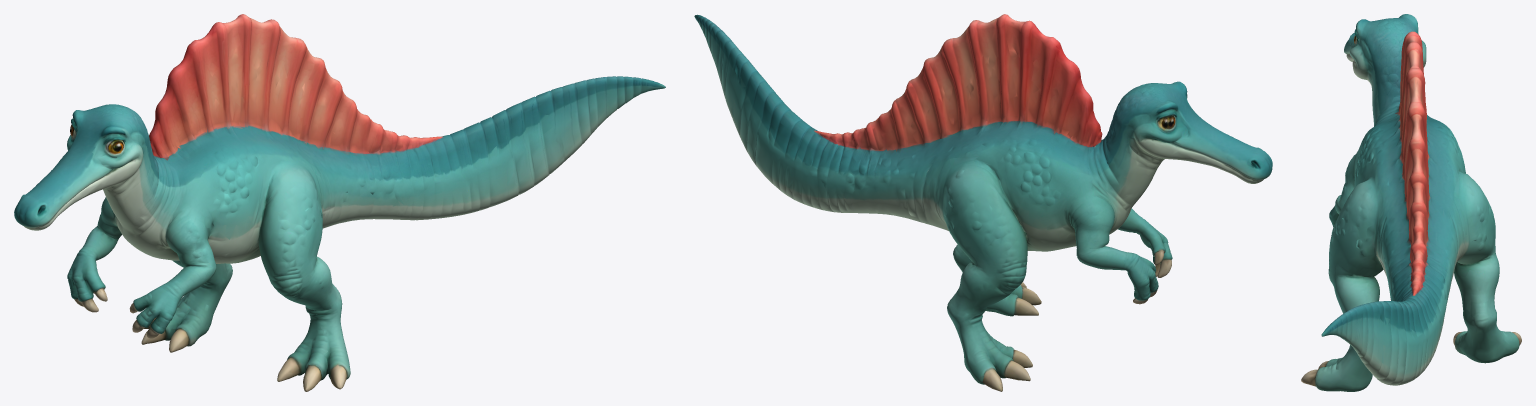
Rendered from spinosaurus-parts.glb.
3 renders of one model, left to right at view 1: azimuth 30°, elevation 25°; view 2: azimuth 150°, elevation 25°; view 3: azimuth 270°, elevation 25°, orthographic. The views are drawn at different scales.
Parts seen in each view (by area): view 1: tripo_part_0, tripo_part_2, tripo_part_1, tripo_part_4, tripo_part_5, tripo_part_7, tripo_part_3, tripo_part_6; view 2: tripo_part_2, tripo_part_0, tripo_part_1, tripo_part_3, tripo_part_5, tripo_part_6, tripo_part_7, tripo_part_4; view 3: tripo_part_0, tripo_part_1, tripo_part_4, tripo_part_3, tripo_part_2, tripo_part_5, tripo_part_7.
Part boxes in pixels (x1,y1,x2,y2): tripo_part_0: (303, 76, 665, 228); tripo_part_2: (149, 14, 440, 160); tripo_part_1: (103, 111, 325, 263); tripo_part_4: (258, 159, 350, 391); tripo_part_5: (14, 104, 146, 230); tripo_part_7: (129, 214, 216, 338); tripo_part_3: (141, 260, 232, 352); tripo_part_6: (67, 197, 121, 312); tripo_part_2: (816, 14, 1102, 151); tripo_part_0: (694, 14, 941, 225); tripo_part_1: (923, 90, 1161, 251); tripo_part_3: (939, 156, 1032, 391); tripo_part_5: (1119, 81, 1272, 183); tripo_part_6: (1064, 195, 1158, 304); tripo_part_7: (1118, 208, 1172, 277); tripo_part_4: (953, 244, 1041, 316); tripo_part_0: (1321, 198, 1458, 385); tripo_part_1: (1353, 40, 1466, 262); tripo_part_4: (1301, 178, 1383, 391); tripo_part_3: (1453, 171, 1521, 363); tripo_part_2: (1395, 31, 1430, 294); tripo_part_5: (1344, 14, 1426, 82); tripo_part_7: (1329, 154, 1355, 226).
Bounding box in the file's own units: 0.9804 × 0.5142 × 0.3166.
1 material, 1 textured.
